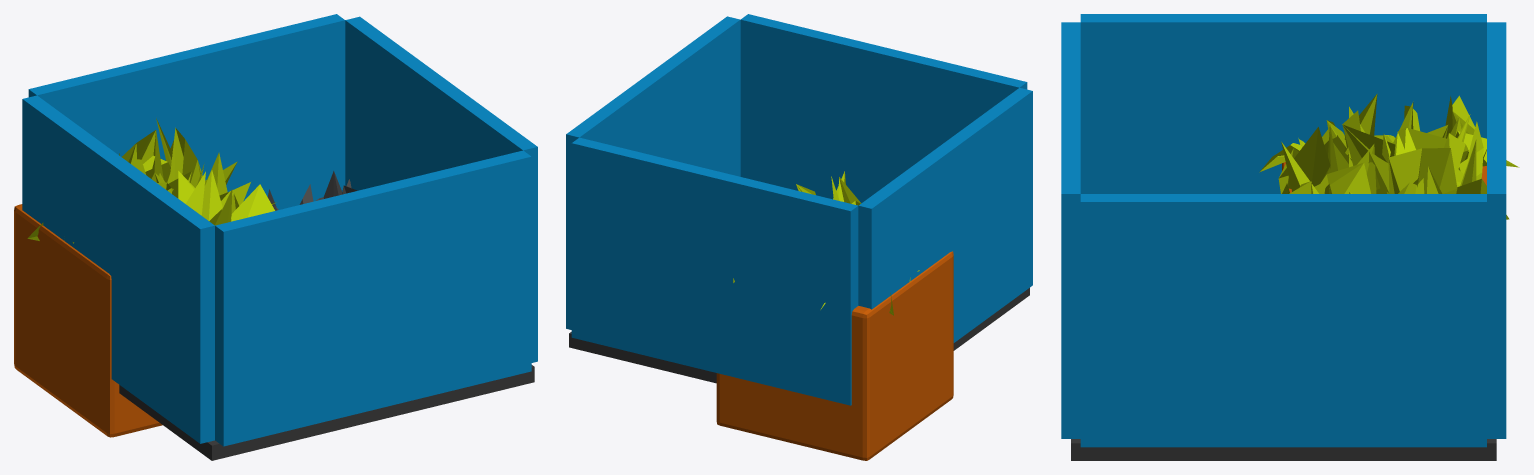
File: coolmap.obj
3 renders of one model, left to right at view 1: azimuth 30°, elevation 25°; view 2: azimuth 150°, elevation 25°; view 3: azimuth 270°, elevation 25°, orthographic. The views are drawn at different scales.
Visible parts, largest first — view 1: Куб.003, Куб.019, Плоскость.005, Куб.004, Плоскость.003; view 2: Куб.003, Куб.019, Куб.004, Плоскость.005; view 3: Куб.003, Плоскость.005, Куб.004.
Part boxes in pixels (<box>): Куб.003: <box>22,14,537,446</box>; Куб.019: <box>14,204,162,437</box>; Плоскость.005: <box>27,118,276,243</box>; Куб.004: <box>119,365,534,460</box>; Плоскость.003: <box>267,171,356,210</box>; Куб.003: <box>566,14,1032,405</box>; Куб.019: <box>716,251,953,460</box>; Куб.004: <box>569,288,1029,383</box>; Плоскость.005: <box>733,171,919,315</box>; Куб.003: <box>1061,14,1506,447</box>; Плоскость.005: <box>1259,94,1519,219</box>; Куб.004: <box>1071,439,1496,460</box>.
Bounding box in the file's own units: 47.36 × 35.79 × 47.39.
